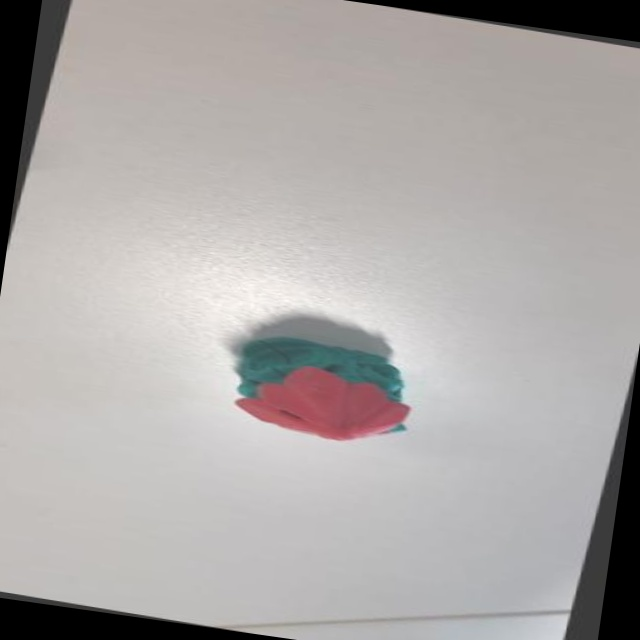House: (203, 319, 431, 460)
